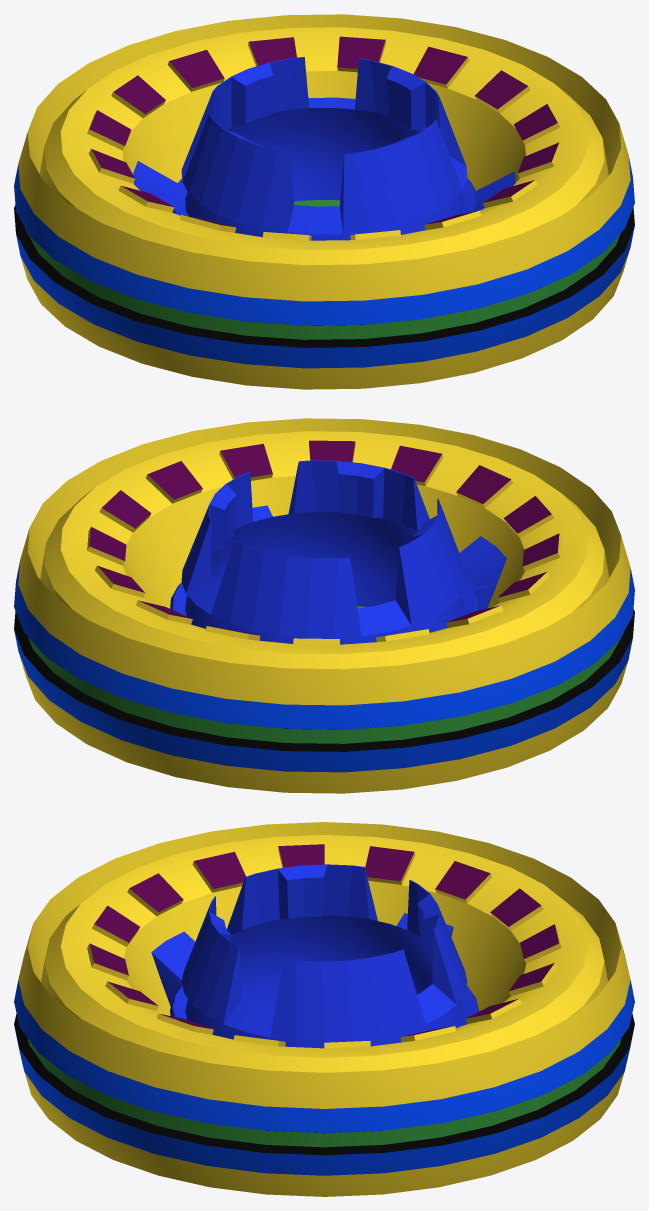
File: Engine First Floor Levitator.FBX
The picture shows the model from 3 angles, top to bottom: view 1: azimuth 30°, elevation 25°; view 2: azimuth 150°, elevation 25°; view 3: azimuth 270°, elevation 25°; orthographic projection.
Visible parts, largest first — view 1: Sphere001, Sphere002; view 2: Sphere001, Sphere002; view 3: Sphere001, Sphere002.
Boxes of the visible parts, left/top/right/bottom form: Sphere001: left=14, top=14, right=634, bottom=389; Sphere002: left=133, top=57, right=515, bottom=240; Sphere001: left=14, top=418, right=634, bottom=793; Sphere002: left=170, top=460, right=506, bottom=644; Sphere001: left=14, top=822, right=634, bottom=1196; Sphere002: left=151, top=864, right=478, bottom=1048.
Bounding box in the file's own units: 7.5 × 2.1 × 7.5.
